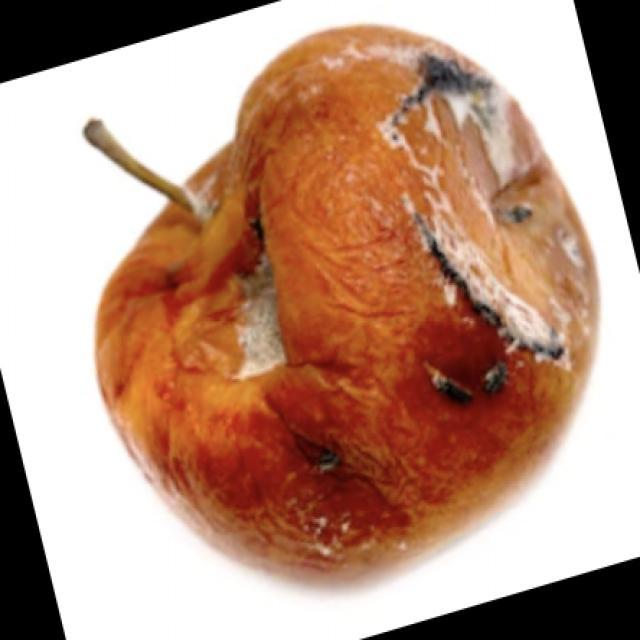Rotten: (70, 28, 582, 580)
